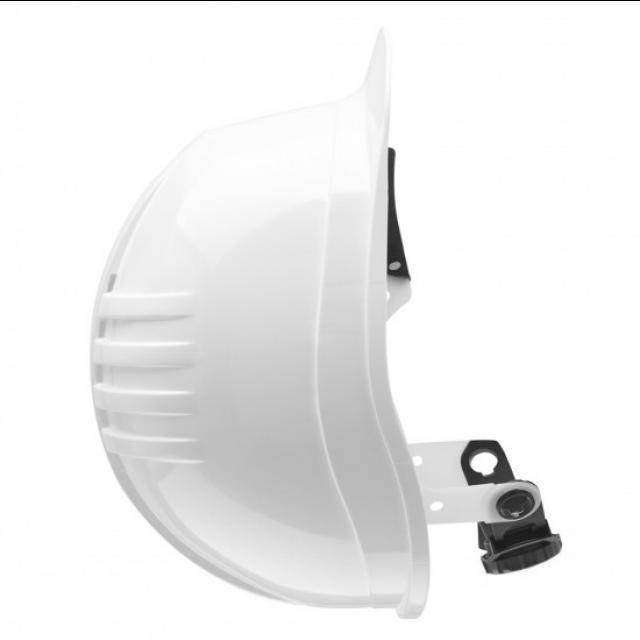safety_helmet: (90, 27, 563, 619)
